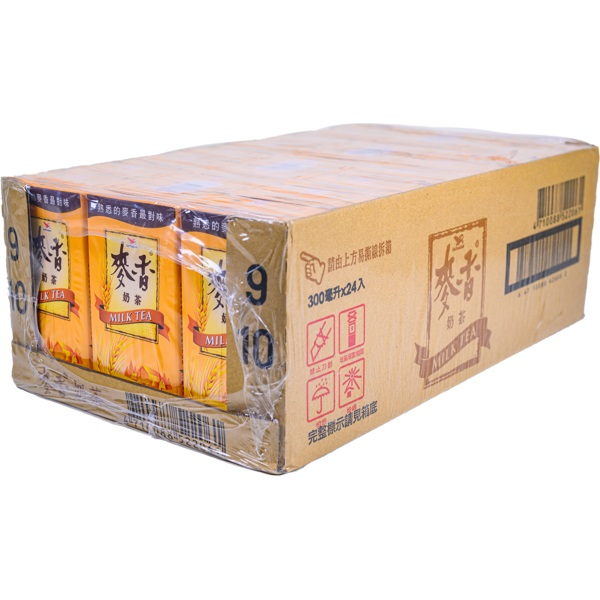milk tea: (88, 198, 179, 394), (183, 201, 229, 414), (39, 184, 87, 359)
